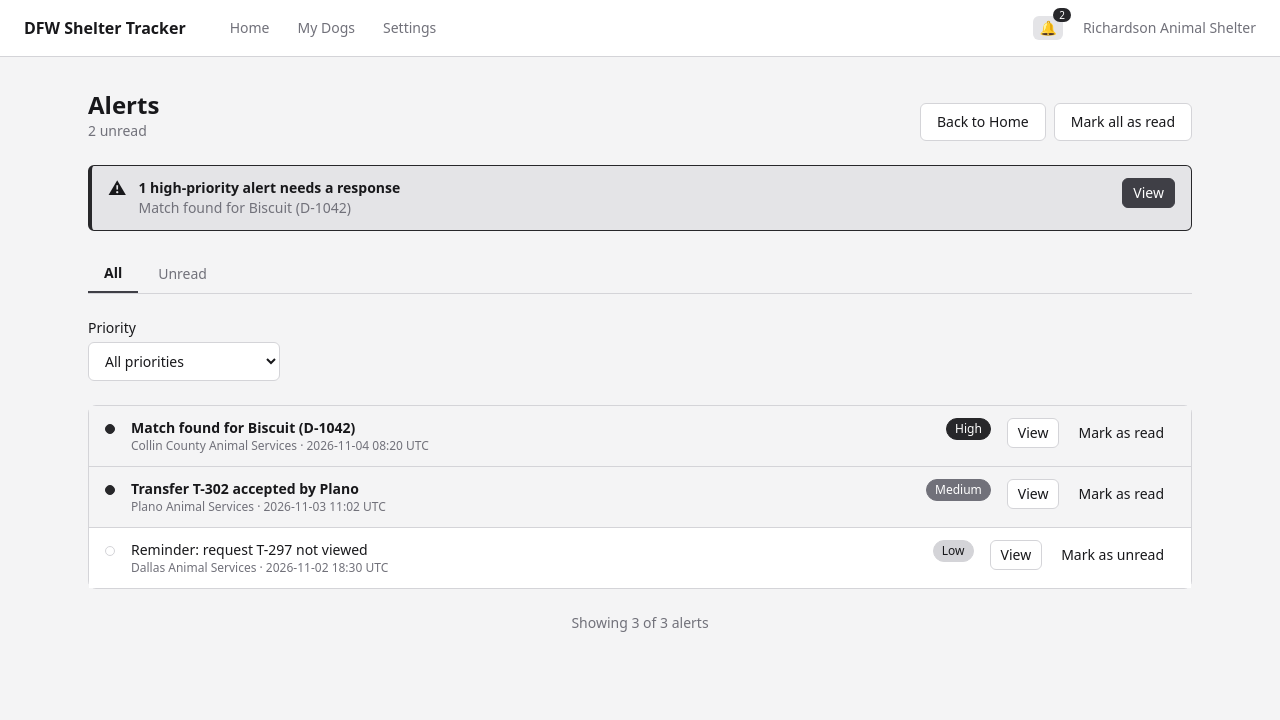
Test: UC-14 View Alerts Inbox (screen) › TC-14-03 (screen) Priority High shows A-90 only; Unread tab shows A-90 and A-89; Mark all as read gives 0
This screenshot has width=1280, height=720.
Select "High" in the dropdown labelled "Priority": [184, 362] box [88,342,280,381]
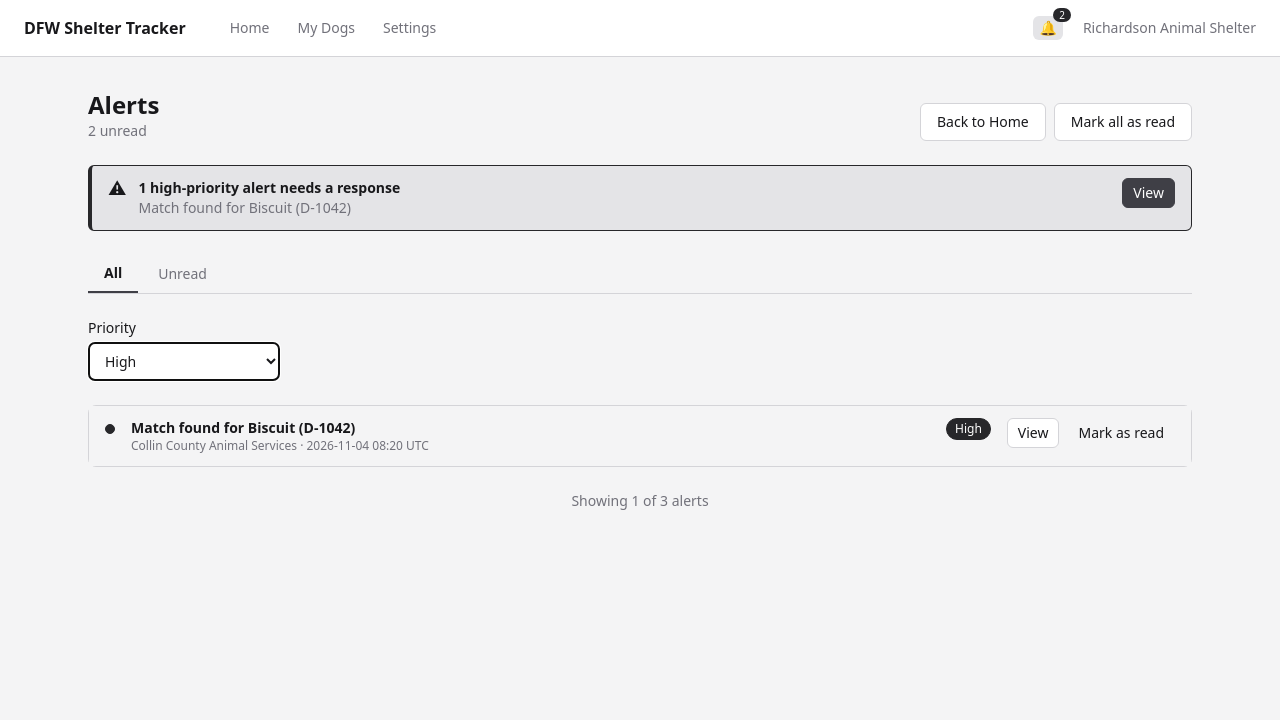
Select "All priorities" in the dropdown labelled "Priority": [184, 362] box [88,342,280,381]
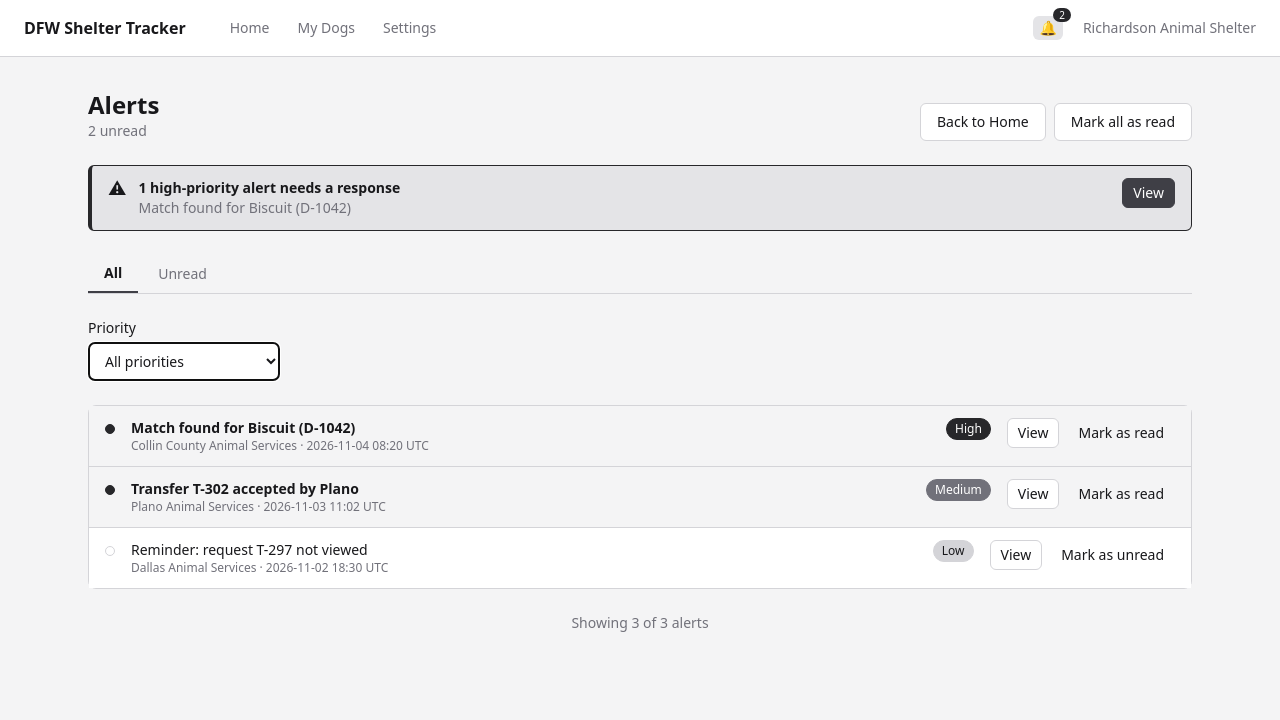
Click the tab "Unread": [183, 274] box [142,255,223,293]
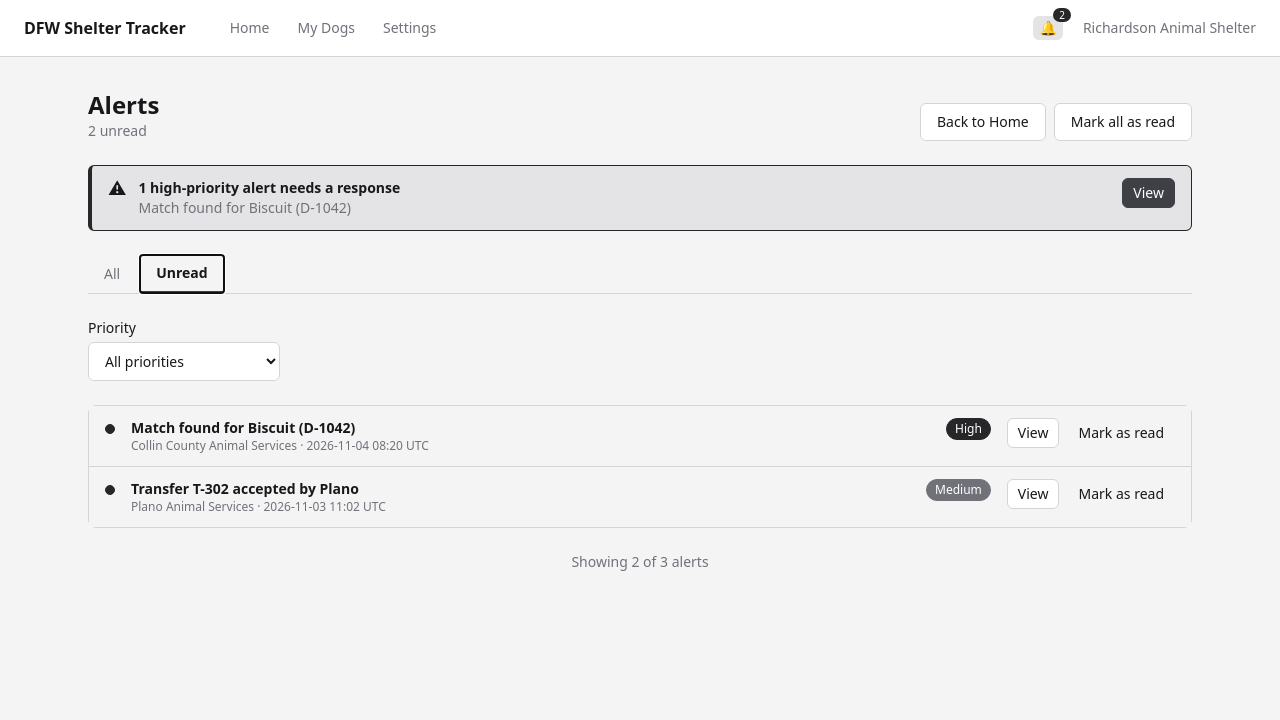
Click the button "Mark all as read": [1123, 122] box [1054,103,1192,141]
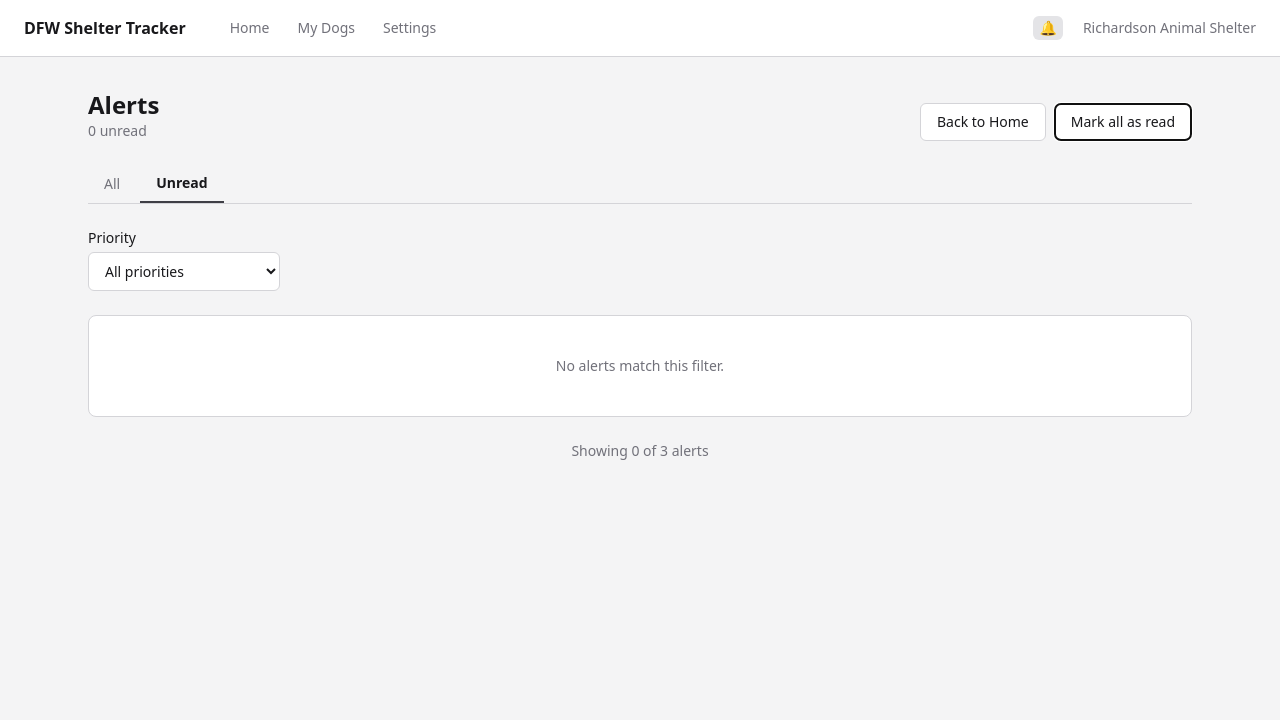
expect the text "0 unread" is shown: met, box [88,121,147,140]
expect the text "No alerts match this filter." is shown: met, box [556,356,724,375]
expect the text "high-priority alert" is gone: met
